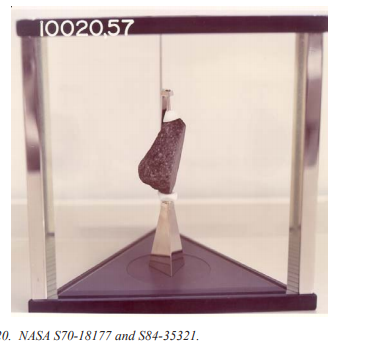Basalt: (109, 113, 221, 199)
